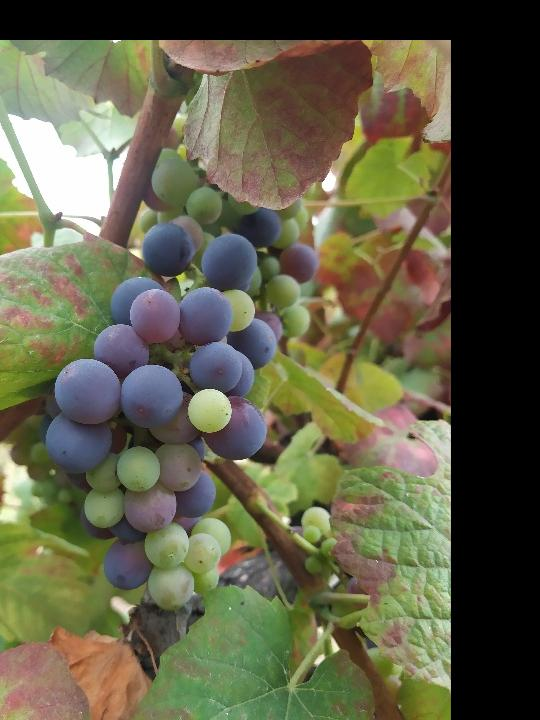grape: (44, 220, 281, 614)
